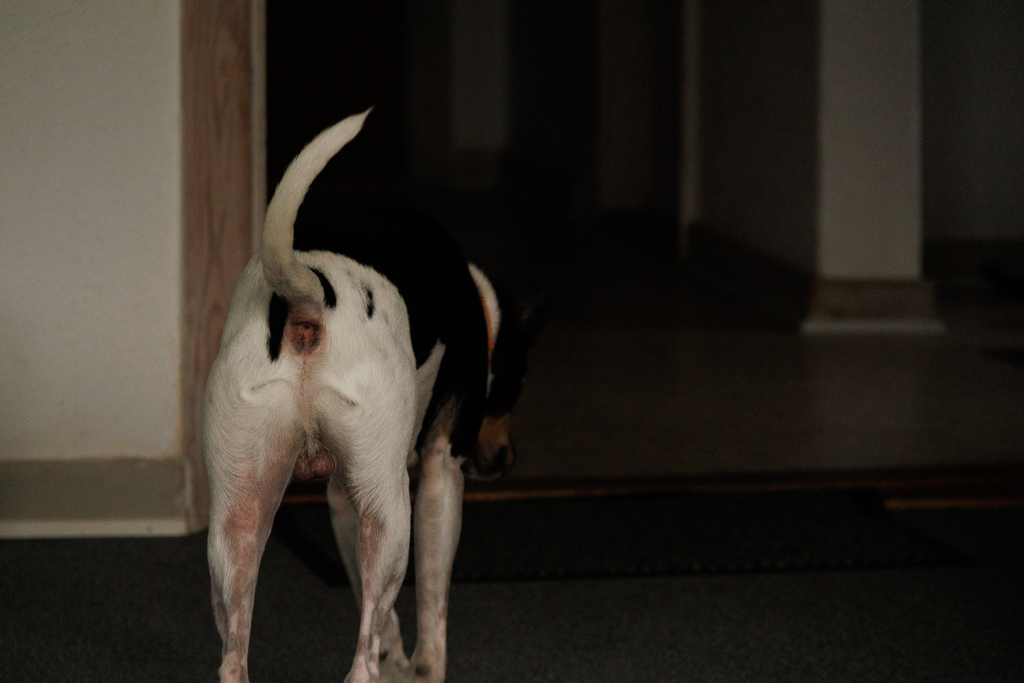Dog: (166, 86, 561, 683)
